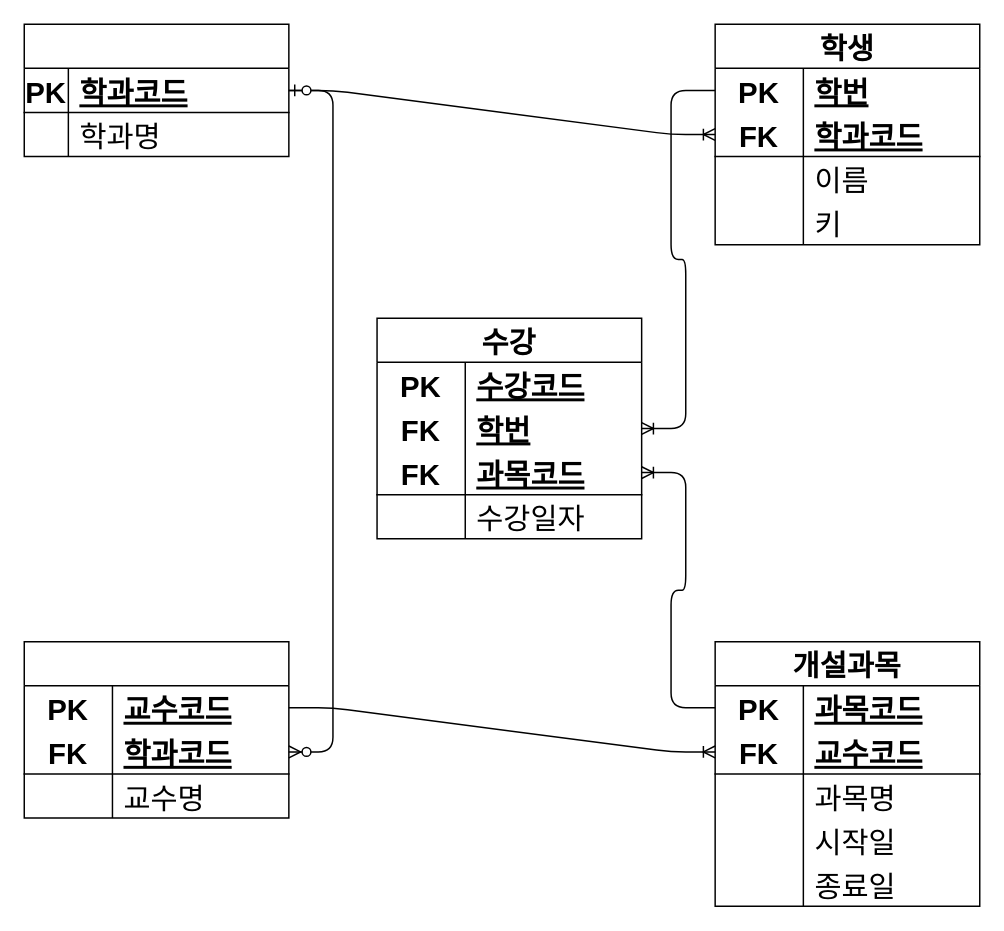
Some shapes in this 1004 by 931 pixel diagram are drawn without their labels. Each missing label, with the box of its shape:
교수: (23, 640, 289, 818)
학과: (23, 23, 289, 157)
